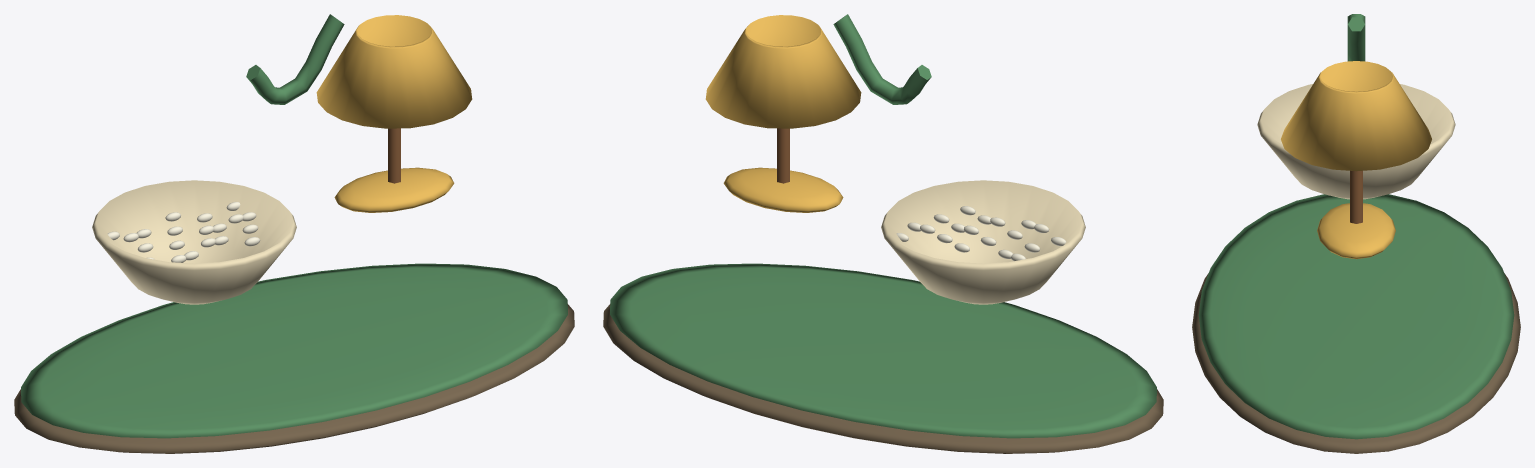
Rendered from complete-second-full-idea.glb.
The picture shows the model from 3 angles, left to right: view 1: azimuth 30°, elevation 25°; view 2: azimuth 150°, elevation 25°; view 3: azimuth 270°, elevation 25°; orthographic projection. The views are drawn at different scales.
Parts seen in each view (by area): view 1: complete-second-full-idea_surface_01, complete-second-full-idea_surface_02, complete-second-full-idea_surface_03, complete-second-full-idea_surface_00, complete-second-full-idea_surface_05, complete-second-full-idea_surface_04; view 2: complete-second-full-idea_surface_01, complete-second-full-idea_surface_02, complete-second-full-idea_surface_03, complete-second-full-idea_surface_00, complete-second-full-idea_surface_05, complete-second-full-idea_surface_04; view 3: complete-second-full-idea_surface_01, complete-second-full-idea_surface_03, complete-second-full-idea_surface_02, complete-second-full-idea_surface_00, complete-second-full-idea_surface_04.
Part boxes in pixels (<box>): complete-second-full-idea_surface_01: <box>21,14,567,438</box>; complete-second-full-idea_surface_02: <box>92,180,296,304</box>; complete-second-full-idea_surface_03: <box>316,15,472,212</box>; complete-second-full-idea_surface_00: <box>14,304,574,453</box>; complete-second-full-idea_surface_05: <box>107,202,260,262</box>; complete-second-full-idea_surface_04: <box>388,128,400,183</box>; complete-second-full-idea_surface_01: <box>610,14,1156,438</box>; complete-second-full-idea_surface_02: <box>881,180,1085,304</box>; complete-second-full-idea_surface_03: <box>705,15,861,212</box>; complete-second-full-idea_surface_00: <box>603,304,1163,453</box>; complete-second-full-idea_surface_05: <box>896,206,1066,261</box>; complete-second-full-idea_surface_04: <box>777,128,789,183</box>; complete-second-full-idea_surface_01: <box>1198,14,1514,439</box>; complete-second-full-idea_surface_03: <box>1281,61,1431,259</box>; complete-second-full-idea_surface_02: <box>1257,84,1455,199</box>; complete-second-full-idea_surface_00: <box>1192,273,1520,453</box>; complete-second-full-idea_surface_04: <box>1350,170,1362,223</box>.
Bounding box in the file's own units: 4.56 × 2.88 × 2.5.
